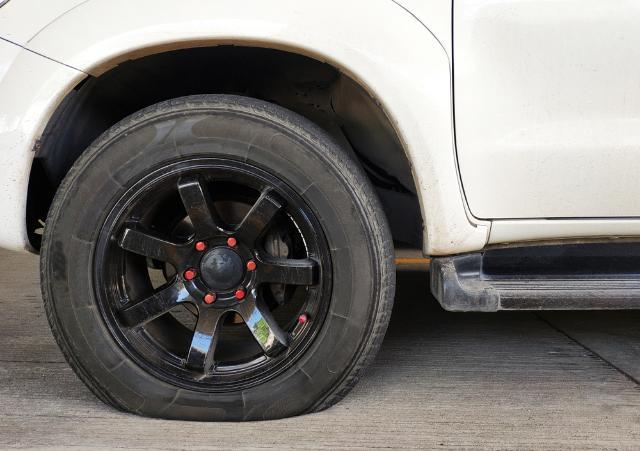tire flat: (41, 92, 399, 424)
